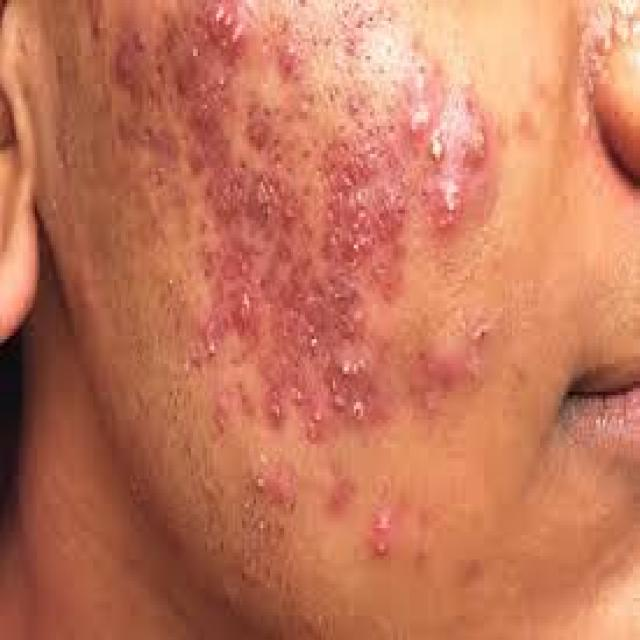Acne: (264, 242, 326, 376), (112, 110, 184, 167), (322, 191, 374, 269), (322, 128, 391, 186), (248, 168, 302, 234), (420, 175, 466, 241), (200, 0, 248, 62), (407, 61, 445, 139), (203, 164, 246, 230), (255, 451, 299, 514), (110, 24, 152, 90), (188, 70, 237, 126), (186, 310, 228, 373), (330, 278, 370, 344), (329, 383, 380, 430), (457, 116, 494, 178), (242, 97, 274, 158), (375, 190, 408, 246), (232, 286, 262, 343), (271, 33, 302, 88), (368, 507, 396, 566), (325, 473, 357, 524), (333, 349, 372, 382), (260, 381, 286, 427), (423, 131, 449, 172), (303, 404, 323, 447)
